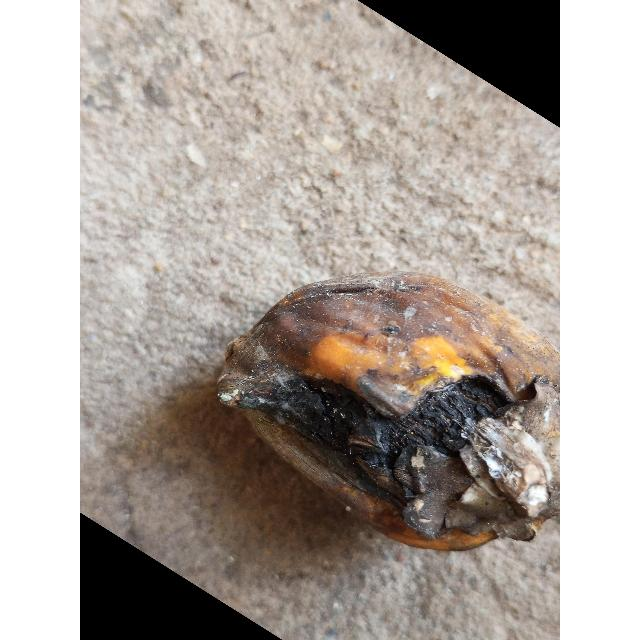damaged: (217, 272, 560, 555)
